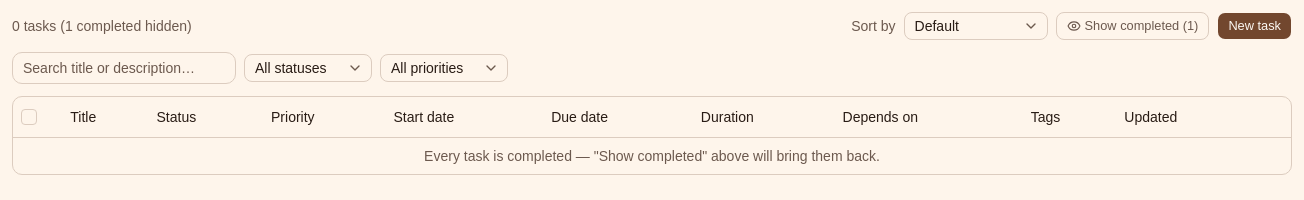
Scenario: completed tasks › reveals them once the toggle is used
The image size is (1304, 200).
Click the button "Show completed (1)" at (1132, 26), box [1056,12,1209,40]
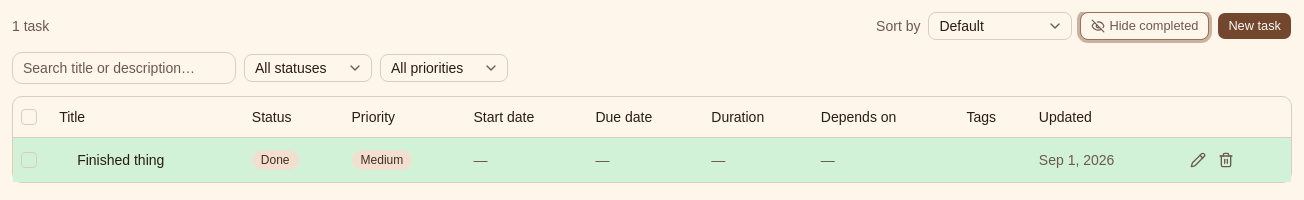
Check: the text "Finished thing" is shown, box [77,152,164,168]
